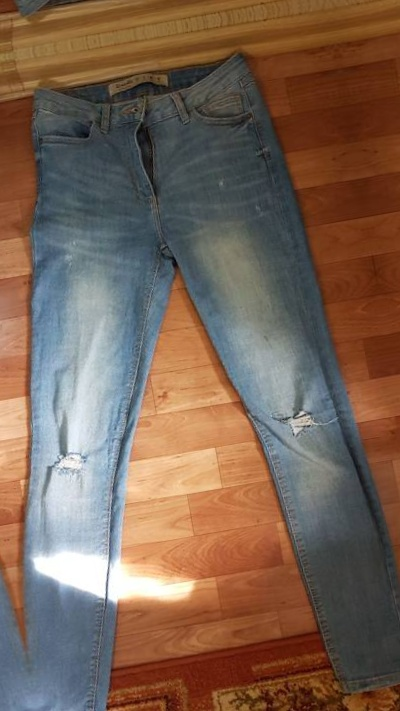Pants: (0, 32, 400, 711), (361, 0, 400, 692), (0, 99, 44, 711), (0, 0, 295, 43)
